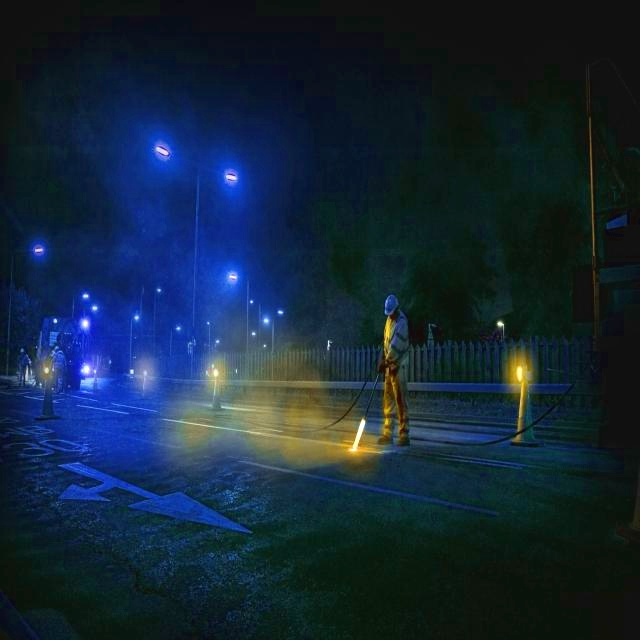Con_Casco: (384, 294, 399, 315)
Con_Chaleco: (383, 317, 408, 370)
